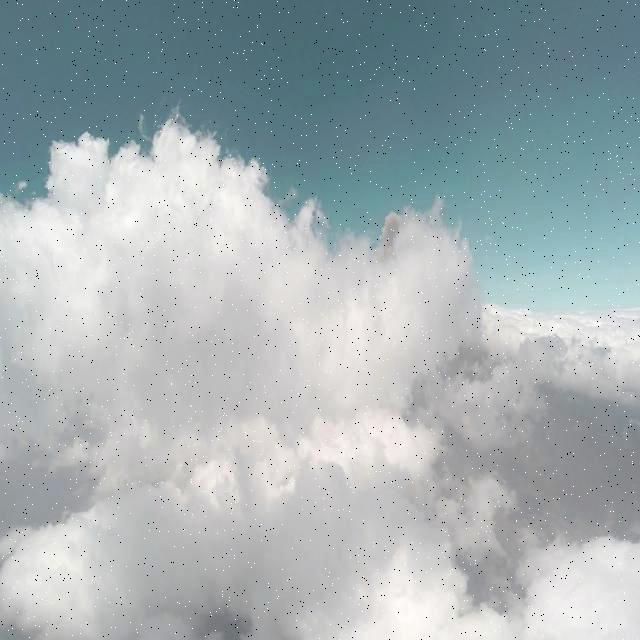Plume: (376, 206, 404, 262)
